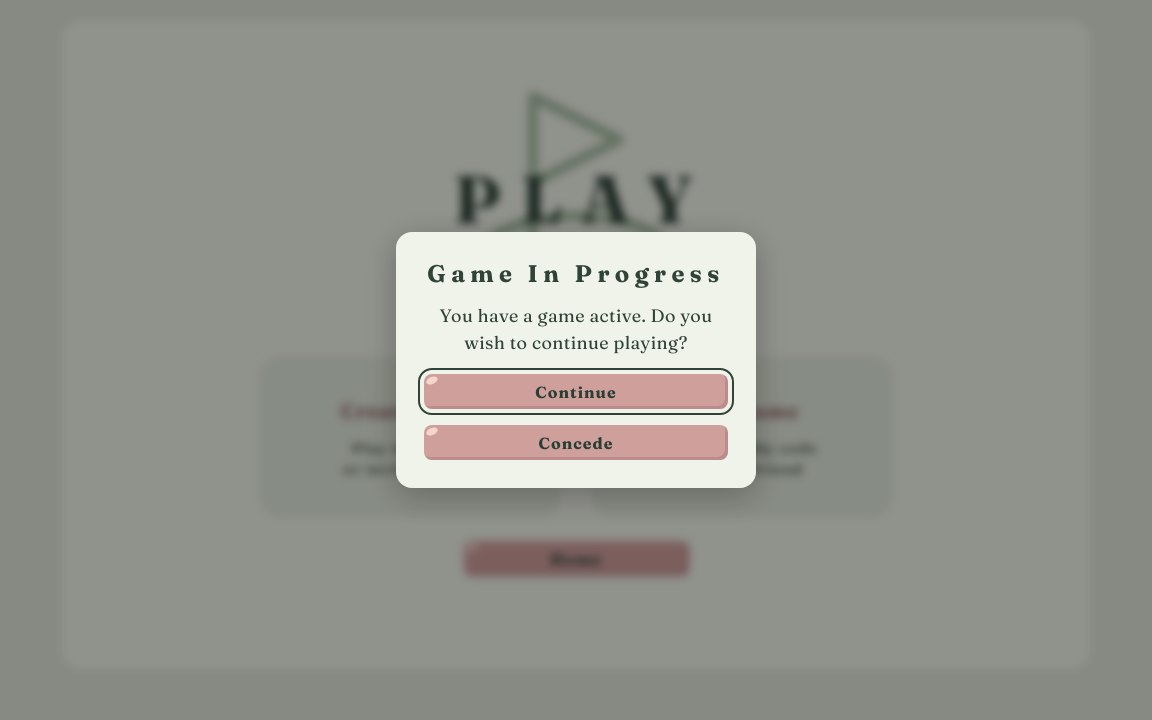
Test: cancels concession, then clears guest progress only after Yes
Click the button "Concede" at (576, 443), box [424,425,728,460]
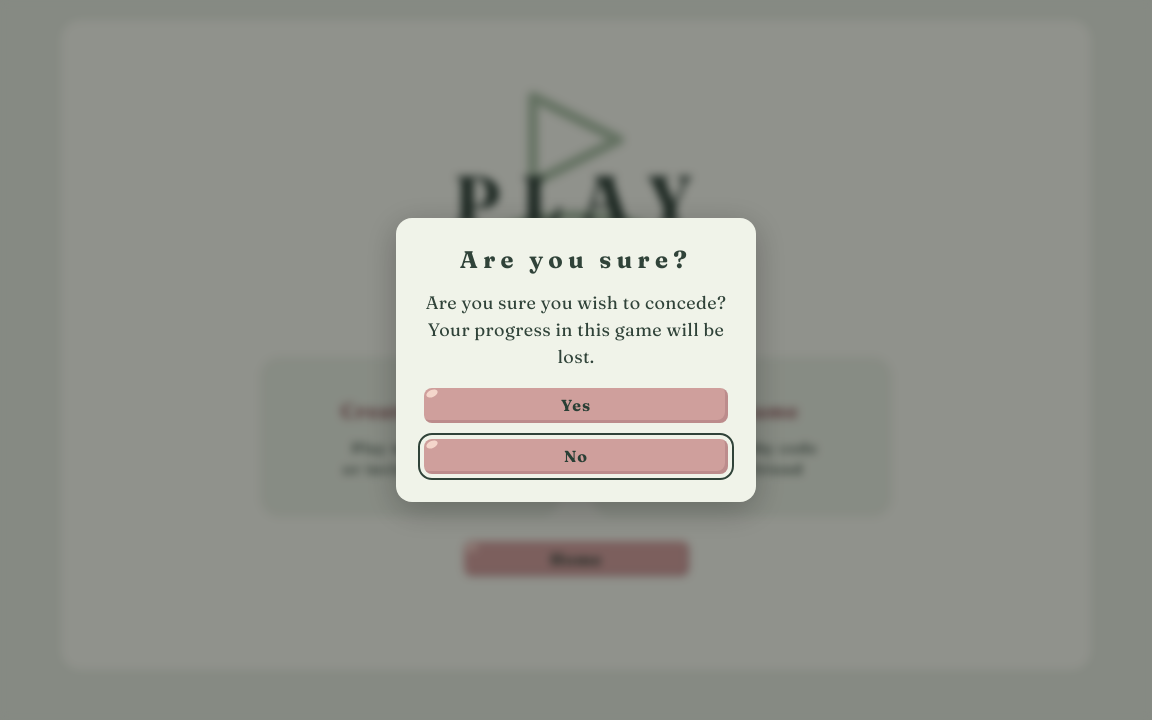
Check: the dialog "Are you sure?" shows "progress in this game will be lost", box [426,291,726,368]
Click the button "No" at (576, 456), box [424,439,728,474]
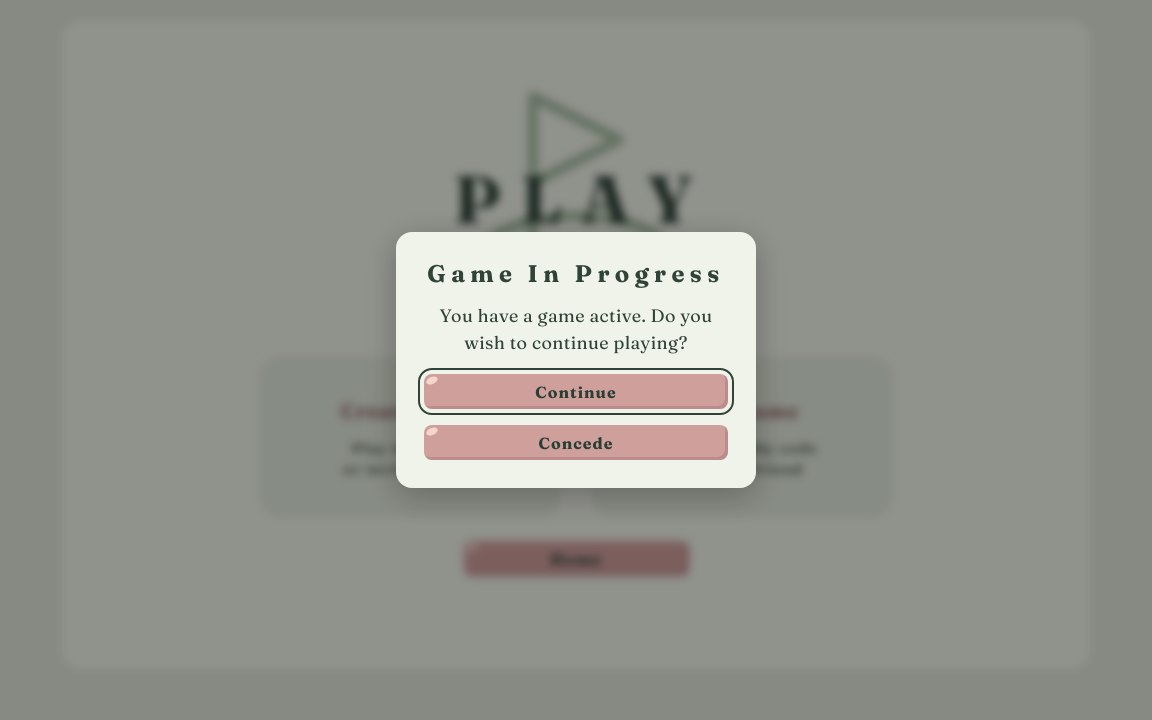
Check: the dialog "Game In Progress" is shown, box [396,232,756,488]
Click the button "Concede" at (576, 443), box [424,425,728,460]
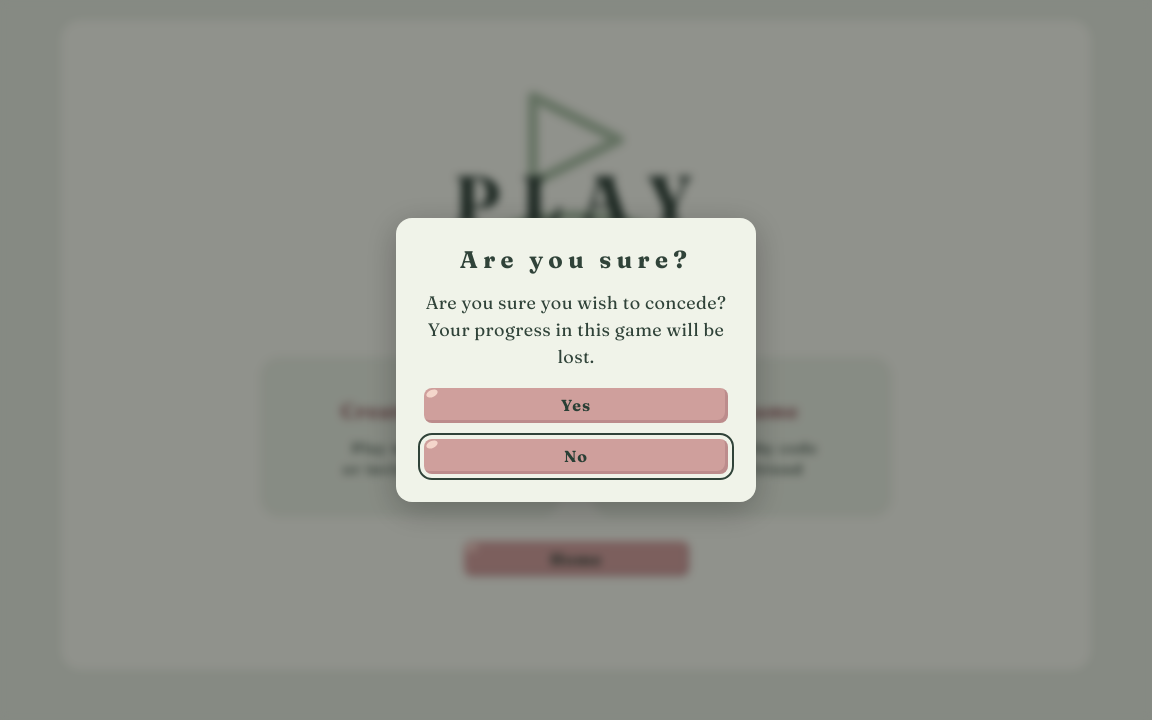
Click the button "Yes" at (576, 405), box [424,388,728,423]
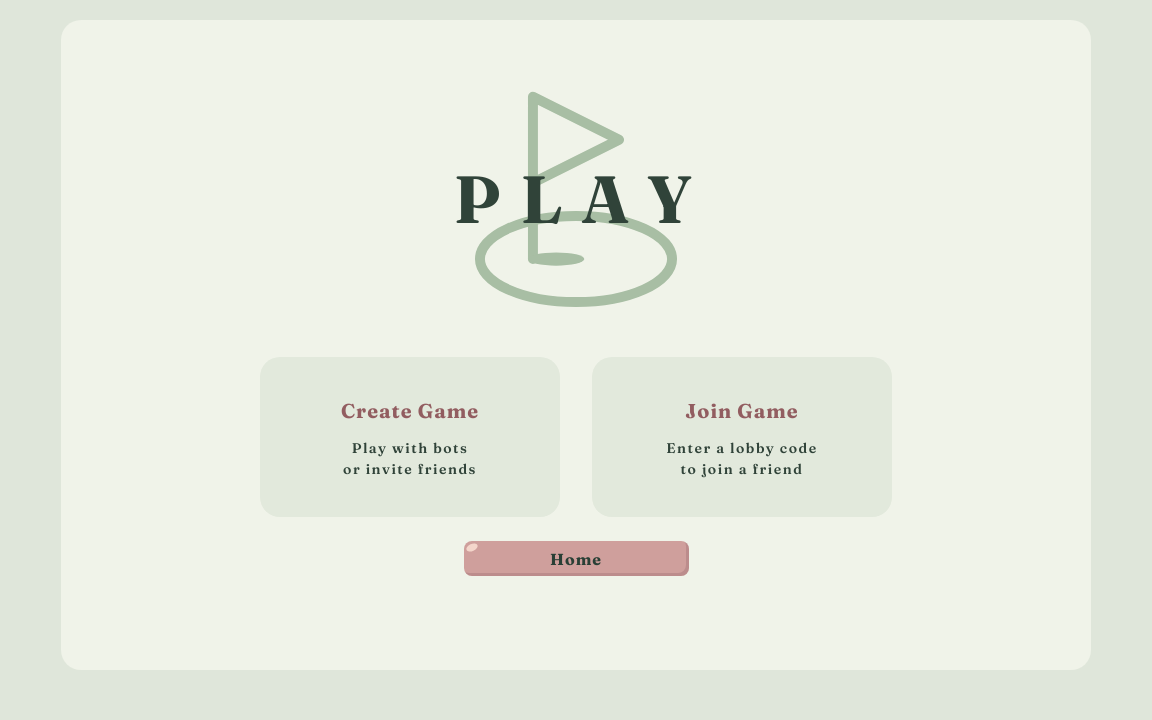
Check: the dialog is gone
